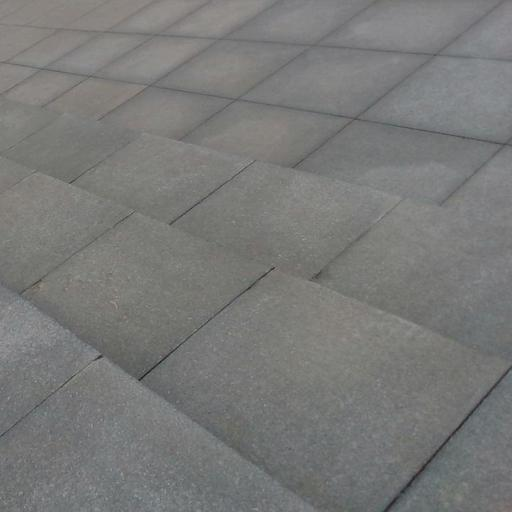stairs: (0, 100, 511, 511), (0, 287, 312, 511)
